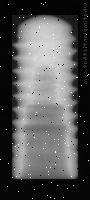Straumann ITI: (12, 15, 78, 179)
